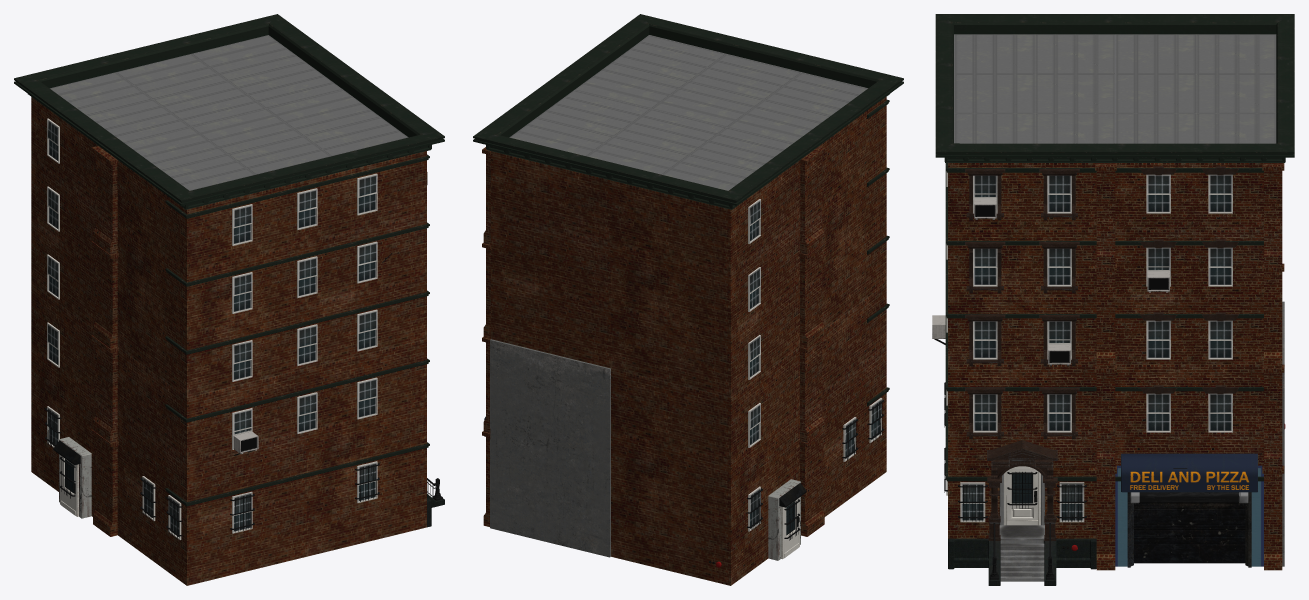
Rendered from Building2.fbx.
3 renders of one model, left to right at view 1: azimuth 30°, elevation 25°; view 2: azimuth 150°, elevation 25°; view 3: azimuth 270°, elevation 25°, orthographic. The views are drawn at different scales.
Parts seen in each view (by area): view 1: Object_2.018; view 2: Object_2.018; view 3: Object_2.018.
Part boxes in pixels (x1=…): Object_2.018: x1=14, y1=14, x2=444, y2=585; Object_2.018: x1=473, y1=14, x2=903, y2=585; Object_2.018: x1=932, y1=14, x2=1294, y2=585.
Bounding box in the file's own units: 1520 × 1943 × 1515.
